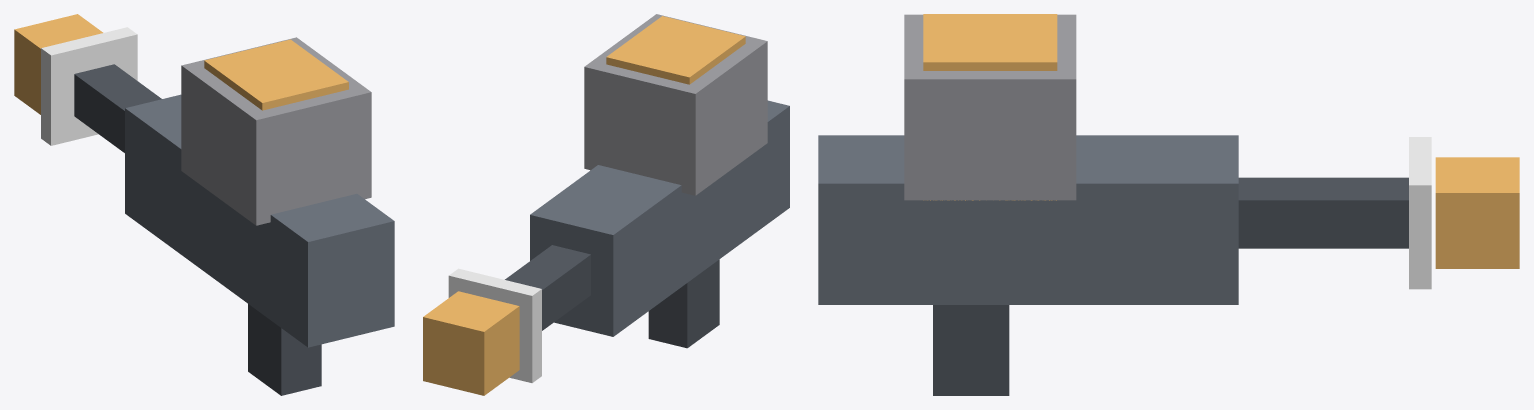
Rendered from BUBBLE.gltf.
3 renders of one model, left to right at view 1: azimuth 30°, elevation 25°; view 2: azimuth 150°, elevation 25°; view 3: azimuth 270°, elevation 25°, orthographic. The views are drawn at different scales.
Visible parts, largest first — view 1: BUBBLE; view 2: BUBBLE; view 3: BUBBLE.
Boxes of the visible parts, x1,y1,x2,y2 form: BUBBLE: [14, 14, 394, 395]; BUBBLE: [423, 14, 789, 395]; BUBBLE: [818, 14, 1519, 395].
Bounding box in the file's own units: 0.08 × 0.2 × 0.367.
